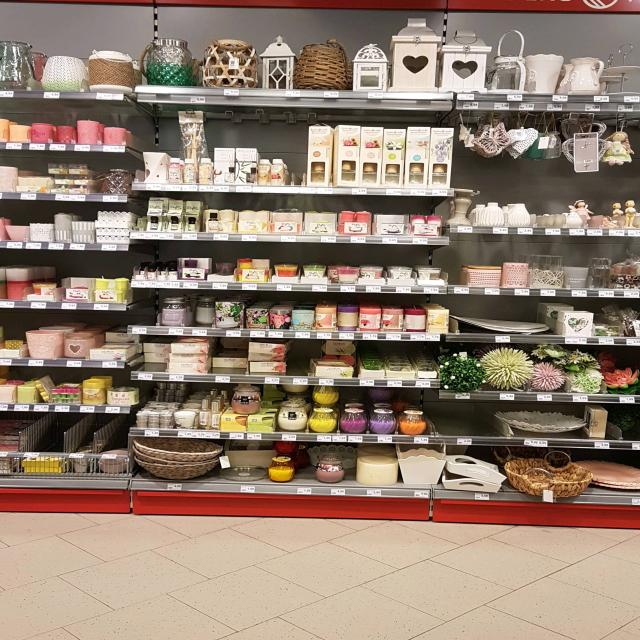empty: (434, 393, 499, 437), (288, 344, 316, 383), (284, 139, 305, 184)
